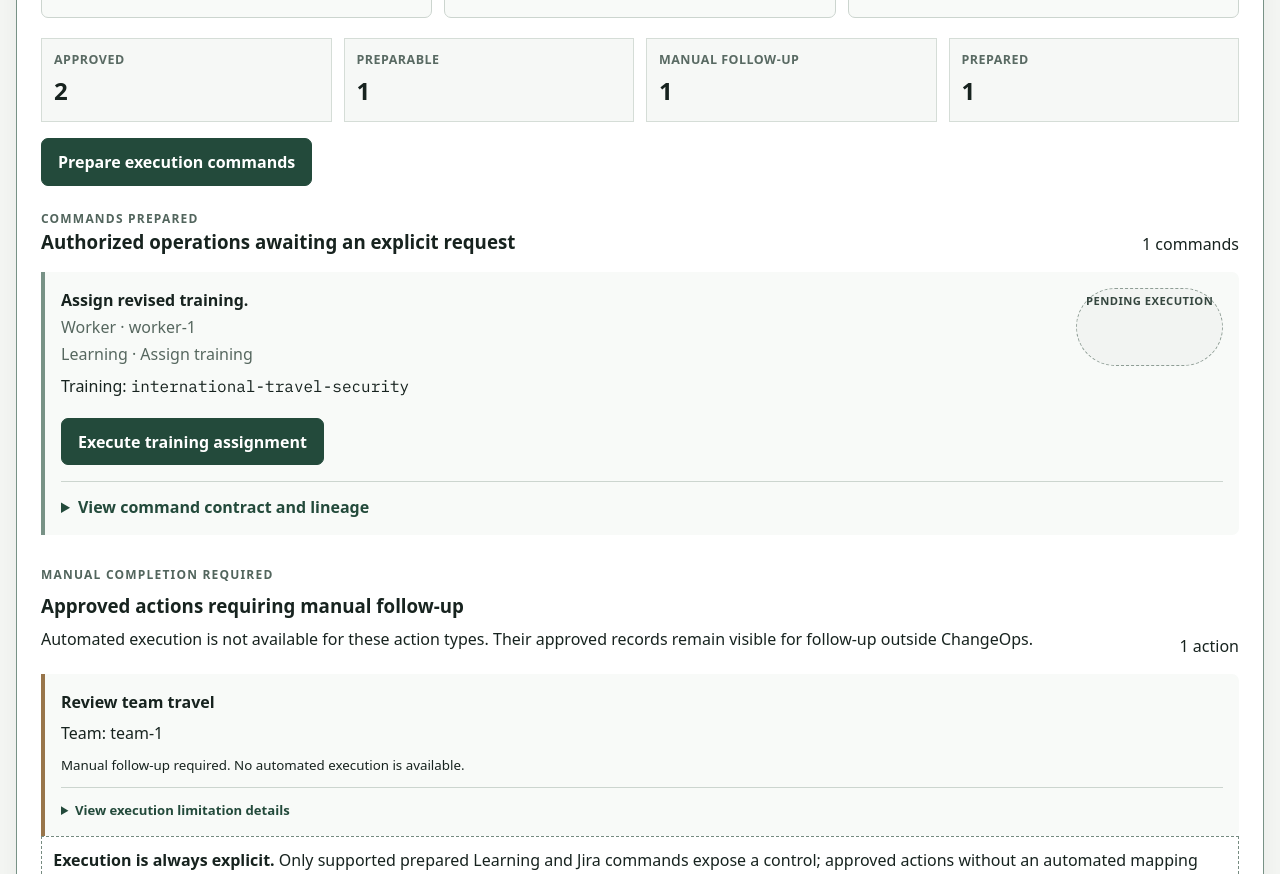
Scenario: approval workbench › executes a supported command and reloads authoritative result state
(page scrolled)
Click the button "Execute training assignment" at (192, 442), box [61,418,324,465]
(page scrolled)
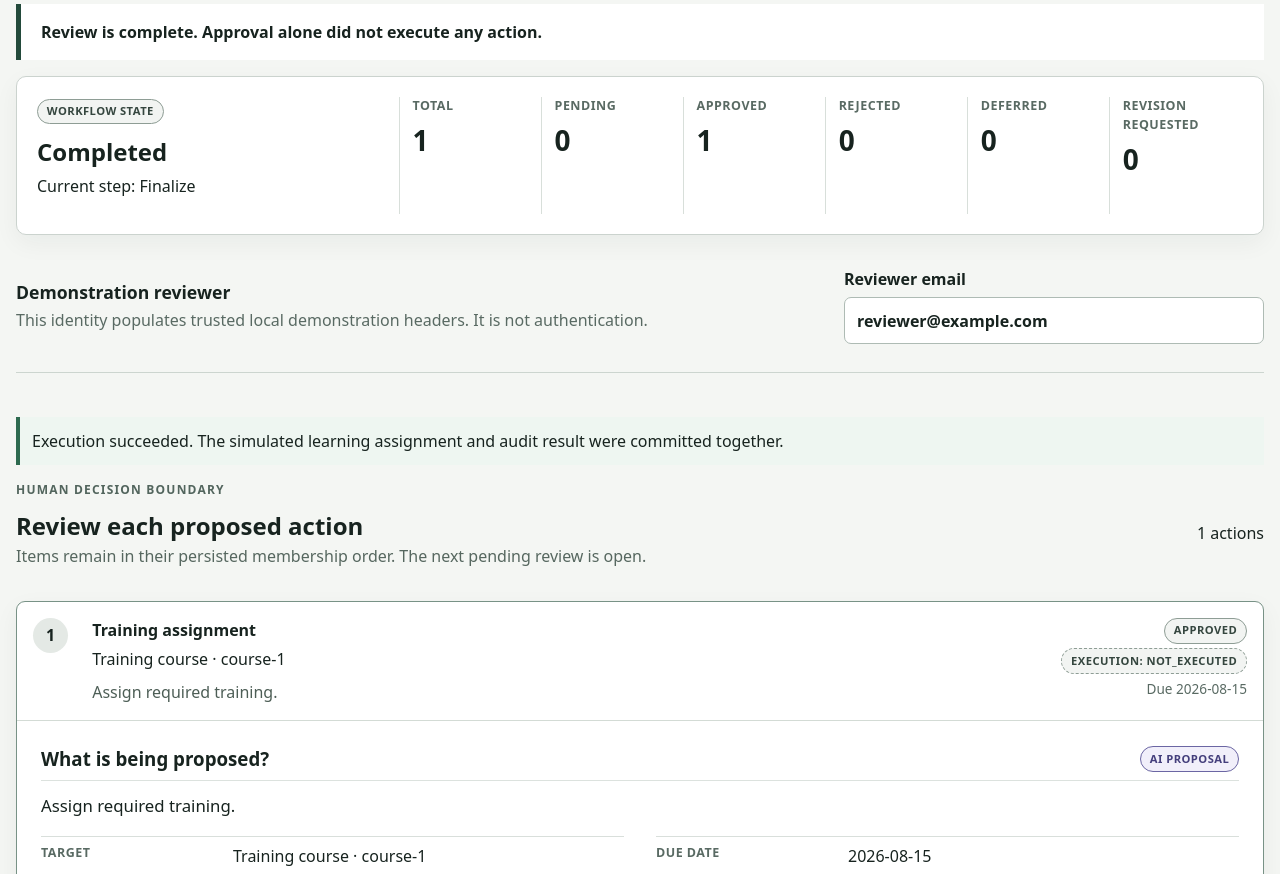
Expected: the text "Execution succeeded" is shown, [32,430,784,452]
